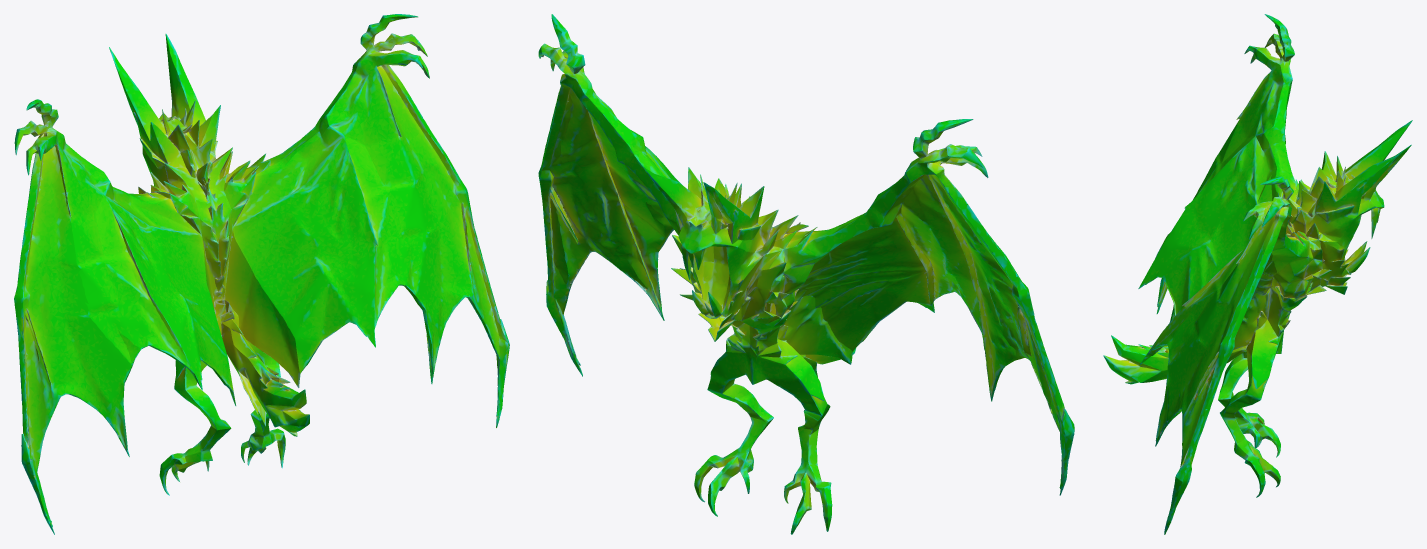
File: CaveBat_outline.fbx
3 renders of one model, left to right at view 1: azimuth 30°, elevation 25°; view 2: azimuth 150°, elevation 25°; view 3: azimuth 270°, elevation 25°, orthographic. The views are drawn at different scales.
Parts seen in each view (by area): view 1: CaveBat_outline; view 2: CaveBat_outline; view 3: CaveBat_outline.
Part boxes in pixels (<box>): CaveBat_outline: <box>14,14,509,534</box>; CaveBat_outline: <box>538,14,1074,534</box>; CaveBat_outline: <box>1103,14,1412,534</box>.
Bounding box in the file's own units: 159 × 130 × 97.57.
